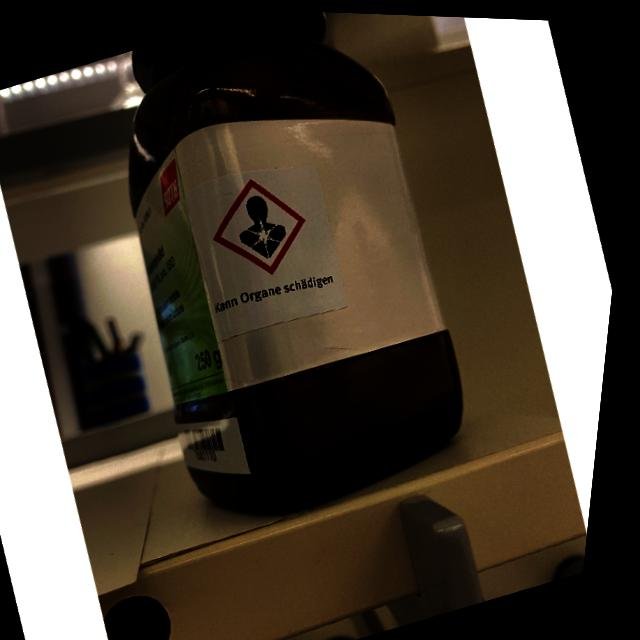serious health hazard: (197, 160, 327, 289)
